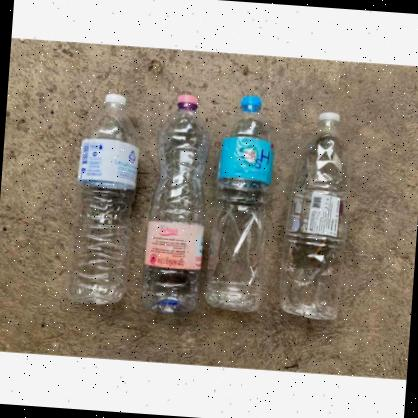bottle: (276, 108, 356, 323), (202, 85, 280, 304), (66, 91, 144, 309), (140, 92, 214, 316)
cap: (105, 93, 128, 108), (175, 94, 199, 108), (240, 96, 262, 110), (318, 111, 341, 124)
label: (286, 188, 348, 242), (76, 137, 140, 188), (144, 220, 203, 272), (217, 138, 274, 184)
